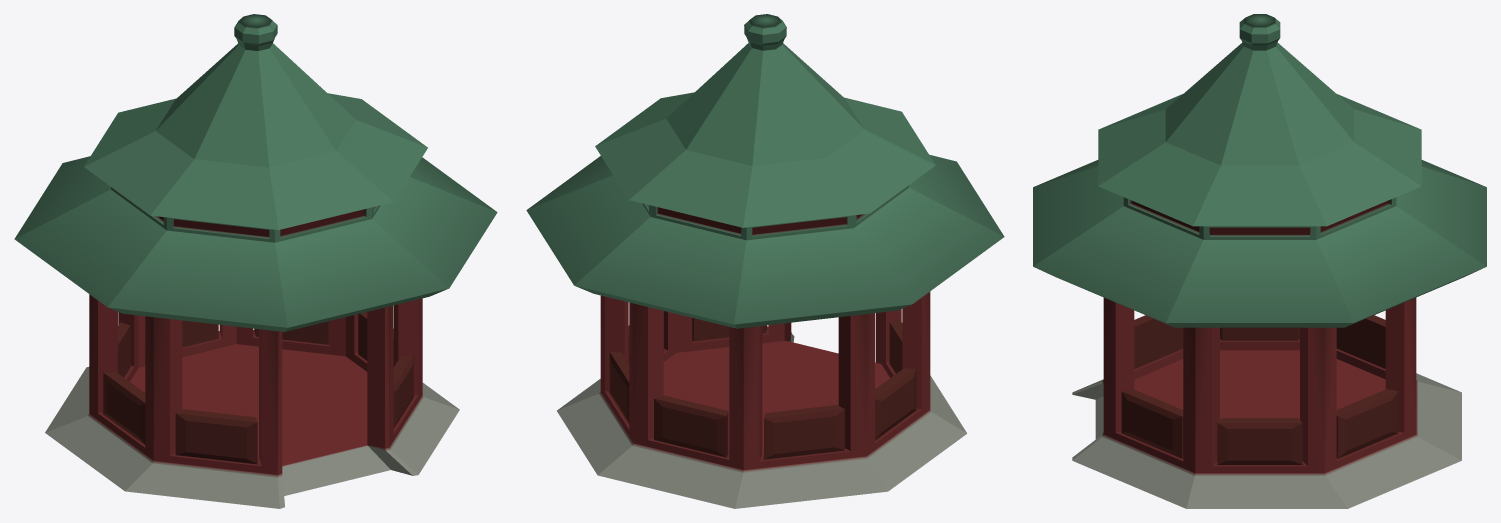
File: pagoda.fbx
3 renders of one model, left to right at view 1: azimuth 30°, elevation 25°; view 2: azimuth 150°, elevation 25°; view 3: azimuth 270°, elevation 25°, orthographic.
Parts seen in each view (by area): view 1: Cylinder; view 2: Cylinder; view 3: Cylinder.
Boxes of the visible parts, left/top/right/bottom form: Cylinder: left=14, top=14, right=497, bottom=508; Cylinder: left=526, top=14, right=1004, bottom=508; Cylinder: left=1033, top=14, right=1486, bottom=508.
Size of the model in its own units: 906 by 898 by 906.
